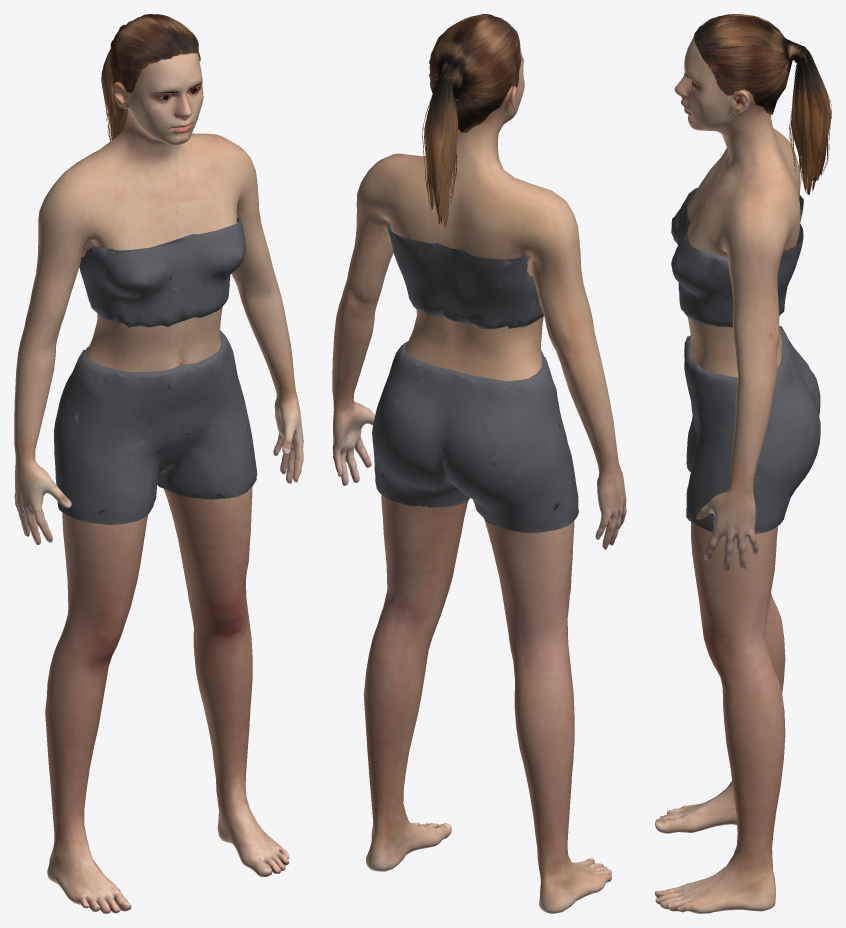
The model's file is mannequin_f.glb.
The picture shows the model from 3 angles, left to right: view 1: azimuth 30°, elevation 25°; view 2: azimuth 150°, elevation 25°; view 3: azimuth 270°, elevation 25°; orthographic projection.
Parts seen in each view (by area): view 1: Human, base_layer_trim, Human.ponytail01; view 2: Human, base_layer_trim, Human.ponytail01; view 3: Human, base_layer_trim, Human.ponytail01.
Boxes of the visible parts, x1,y1,x2,y2 form: Human: [14, 53, 303, 913]; base_layer_trim: [54, 215, 257, 524]; Human.ponytail01: [101, 14, 200, 141]; Human: [332, 48, 626, 913]; base_layer_trim: [372, 222, 578, 533]; Human.ponytail01: [422, 14, 521, 227]; Human: [655, 37, 800, 913]; base_layer_trim: [671, 187, 820, 534]; Human.ponytail01: [693, 14, 831, 194].
Size of the model in its own units: 0.5802 by 1.69 by 0.3181.
Materials: 6 (5 with a texture image).
